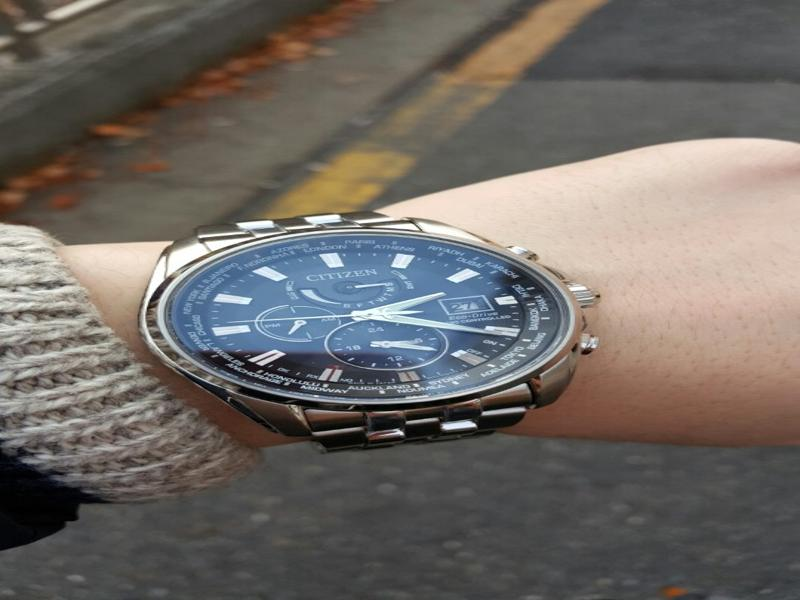watch: (138, 203, 602, 456)
